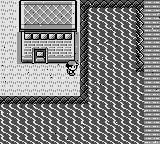captura: (0, 8, 144, 143)
main: (66, 61, 78, 75)
mo: (0, 0, 145, 104)
no-caminable: (20, 1, 77, 63)
puerta: (34, 49, 45, 63)
